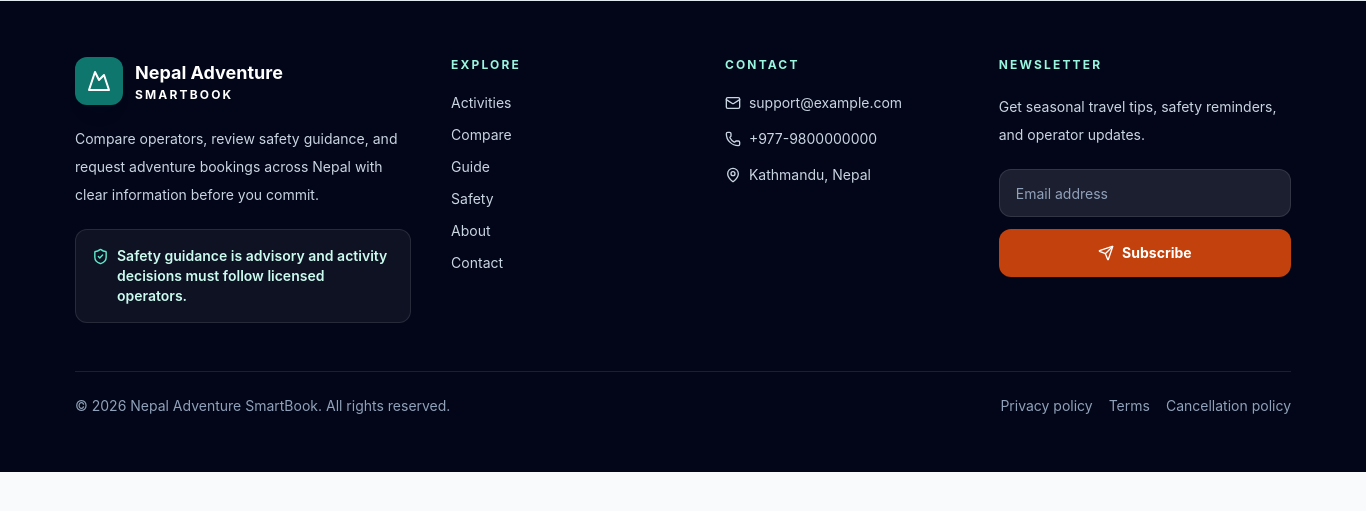
Test: footer newsletter form › prevents duplicate submissions and clears successful input
Type "Traveler@Example.com" into the field named "newsletter email address".
click(1145, 193); type("Traveler@Example.com")  # box [999, 169, 1291, 217]
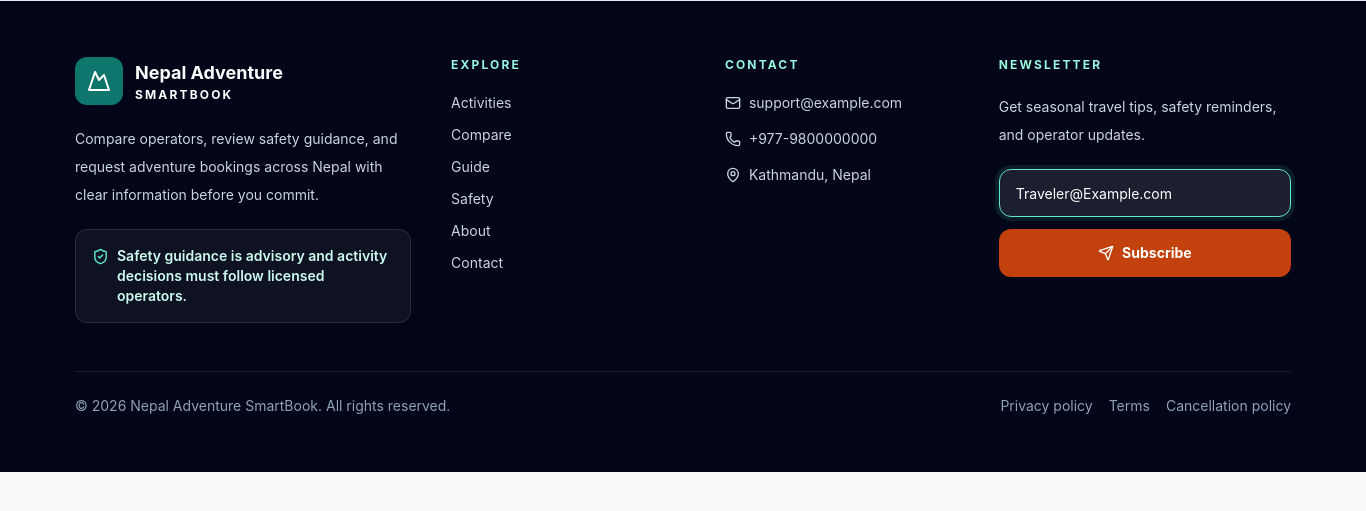
Click the button "Subscribe".
click(1145, 253)  # box [999, 229, 1291, 277]
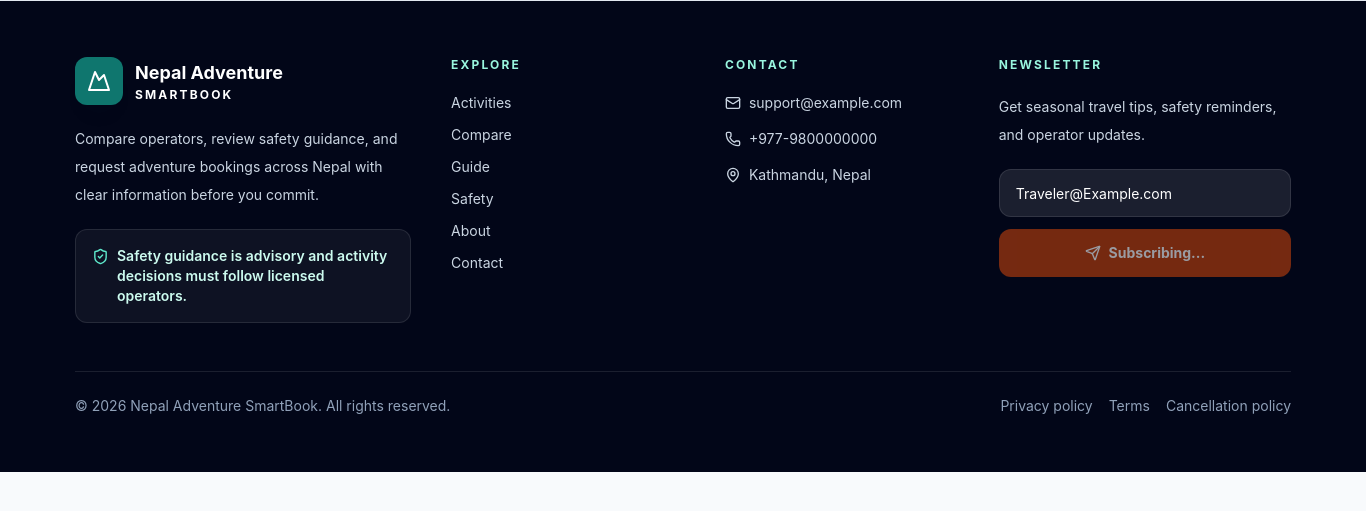
expect the button named "subscribe" is disabled: met
Click the button named "subscribe".
click(1145, 253)  # box [999, 229, 1291, 277]
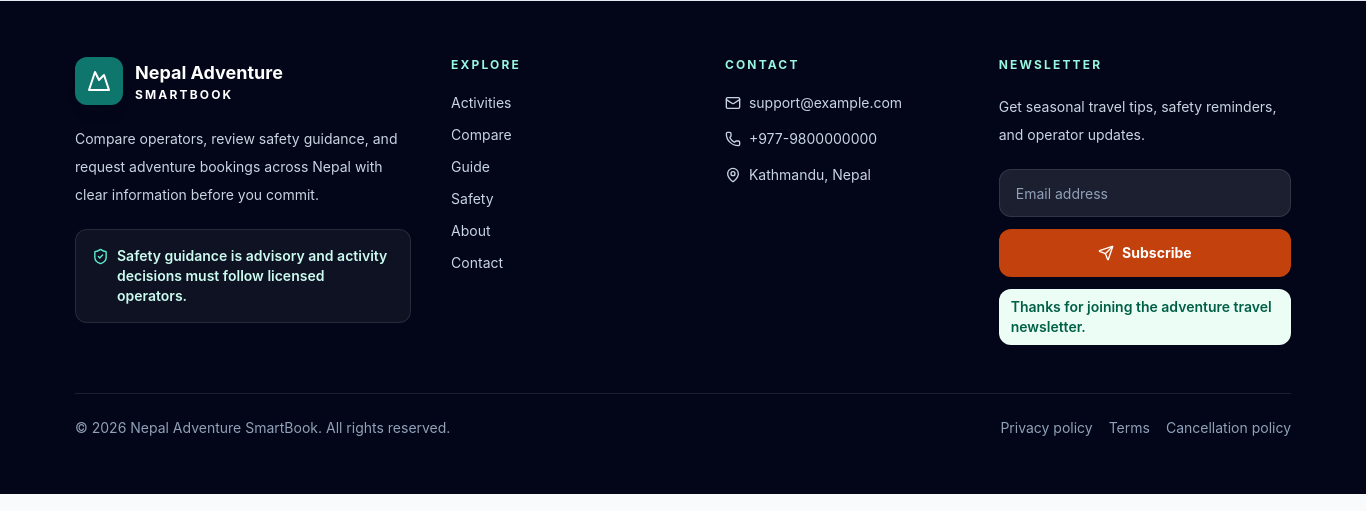
expect the button "Subscribe" is enabled: met, box [999, 229, 1291, 277]
expect the field named "newsletter email address" is empty: met, box [999, 169, 1291, 217]
expect the message shows "Thanks for joining": met, box [1011, 298, 1272, 335]
